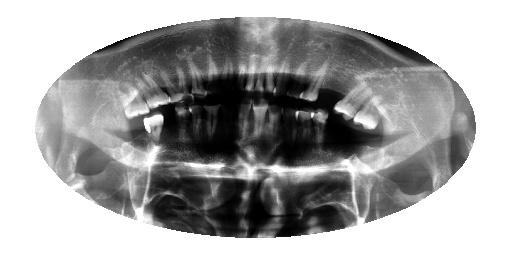i10loss: (216, 98, 242, 152)
i11decay: (201, 99, 222, 152)
i12decay: (186, 100, 206, 153)
i13healthy: (168, 100, 193, 147)
i14loss: (161, 105, 182, 153)
i15healthy: (139, 106, 168, 159)
i4decay: (308, 103, 332, 158)
i5decay: (292, 99, 317, 153)
i6decay: (278, 98, 304, 152)
i7decay: (264, 98, 286, 152)
i8decay: (248, 94, 273, 151)
i9decay: (234, 97, 254, 150)
u10chipped: (234, 53, 249, 100)
u13decay: (185, 53, 214, 105)
u14decay: (157, 64, 196, 112)
u15decay: (133, 65, 176, 116)
u16healthy: (112, 81, 156, 124)
u1healthy: (350, 81, 390, 141)
u2healthy: (332, 76, 375, 126)
u3loss: (315, 67, 347, 123)
u4decay: (298, 45, 332, 112)
u5decay: (283, 52, 312, 103)
u6decay: (271, 58, 293, 100)
u7healthy: (262, 49, 279, 99)
u8healthy: (251, 53, 267, 96)
u9healthy: (243, 51, 257, 97)
